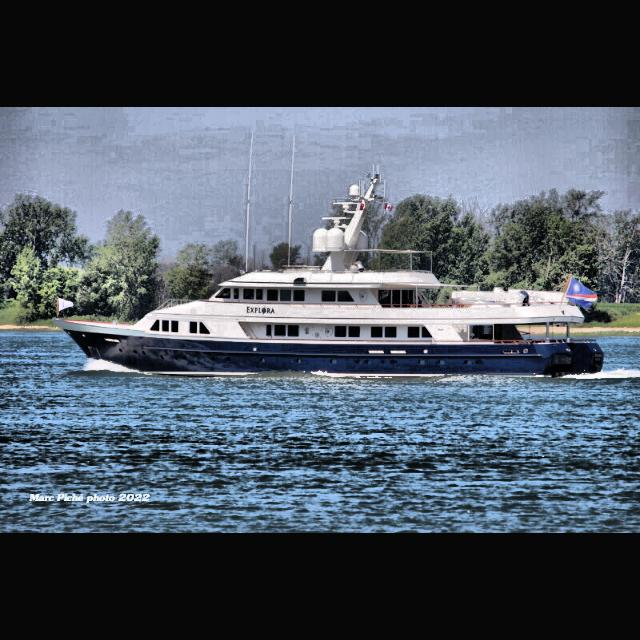yacht: (52, 163, 604, 377)
